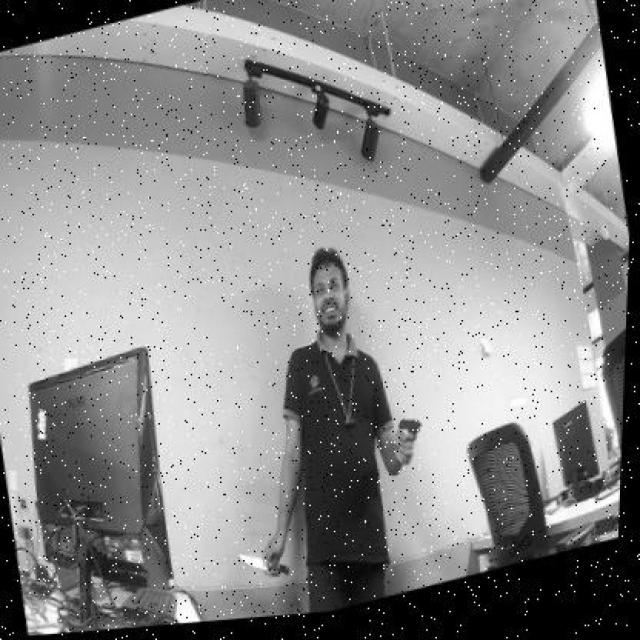weapon: (394, 417, 424, 445)
